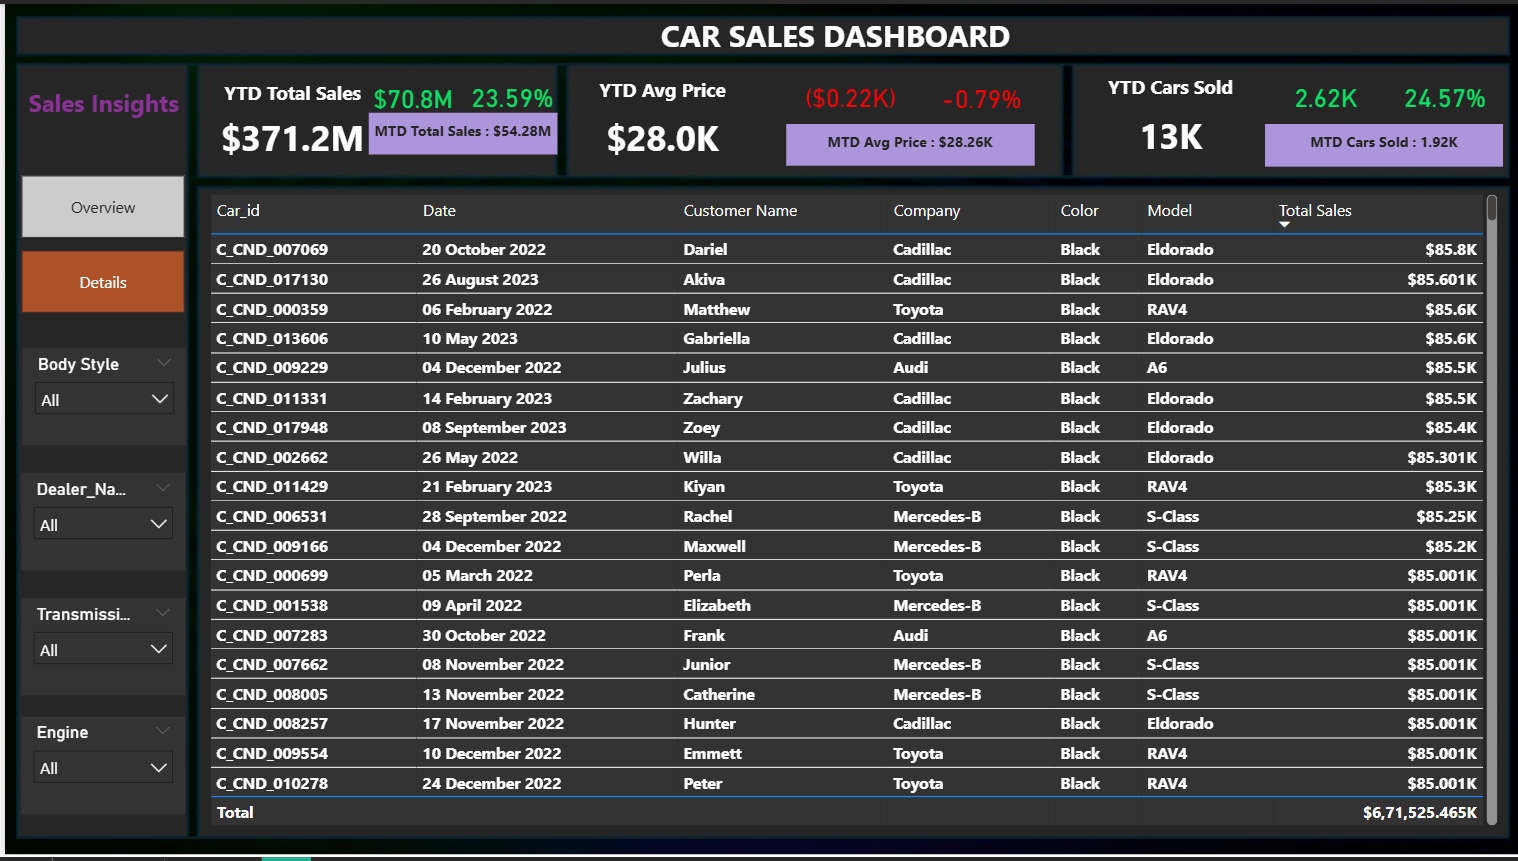

This screenshot's page, from the dashboard's own definition file:
{"tool":"powerbi","page":{"name":"Details","canvas":[1280,720],"ordinal":1},"visuals":[{"type":"card","title":"YTD Total Sales","fields":{"Values":["car_data.YTD Total Sales"]},"box":[167.4,62.8,150,79.1],"z":0},{"type":"card","fields":{"Values":["car_data.Sales Difference"]},"box":[301.2,59.3,86,41.9],"z":1000},{"type":"card","fields":{"Values":["car_data.YOY Sales Growth"]},"box":[387.2,58.1,82.6,41.9],"z":2000},{"type":"card","fields":{"Values":["car_data.MTD KPI"]},"box":[307,91.9,159.3,34.9],"z":3000},{"type":"card","title":"YTD Avg Price","fields":{"Values":["car_data.YTD Avg Price"]},"box":[469.8,61.6,170.9,82.6],"z":4000},{"type":"card","fields":{"Values":["car_data.Avg Price Diff"]},"box":[648.8,58.1,130.2,41.9],"z":5000},{"type":"card","fields":{"Values":["car_data.YOY Avg Price Growth"]},"box":[764,59.3,120.9,41.9],"z":6000},{"type":"card","fields":{"Values":["car_data.MTD Avg Price KPI"]},"box":[659.3,101.2,209.3,34.9],"z":7000},{"type":"card","title":"YTD Cars Sold","fields":{"Values":["car_data.YTD Cars Sold"]},"box":[903.5,58.1,159.3,86],"z":8000},{"type":"card","fields":{"Values":["car_data.Cars Sold Diff"]},"box":[1062.8,58.1,103.5,43],"z":9000},{"type":"card","fields":{"Values":["car_data.YOY Cars Sold"]},"box":[1166.3,58.1,97.7,43],"z":10000},{"type":"card","fields":{"Values":["car_data.MTD Cars Sold KPI"]},"box":[1062.8,101.2,201.2,36],"z":11000},{"type":"slicer","fields":{"Values":["car_data.Body Style"]},"box":[15.1,289.5,138.4,82.6],"z":12000},{"type":"slicer","fields":{"Values":["car_data.Dealer_Name"]},"box":[14,395.3,138.4,82.6],"z":13000},{"type":"slicer","fields":{"Values":["car_data.Transmission"]},"box":[14,501.2,138.4,82.6],"z":14000},{"type":"slicer","fields":{"Values":["car_data.Engine"]},"box":[14,601.2,138.4,82.6],"z":15000},{"type":"textbox","title":" CAR SALES DASHBOARD","box":[548.8,9.3,708.1,34.9],"z":16000},{"type":"tableEx","fields":{"Values":["car_data.Car_id","car_data.Date","car_data.Customer Name","car_data.Company","car_data.Color","car_data.Model","Sum(car_data.Price ($))"]},"box":[167.4,155.8,1096.5,541.9],"z":17000},{"type":"pageNavigator","box":[14,144.2,138.4,116.3],"z":18000},{"type":"textbox","title":"Sales Insights","box":[15.1,69.8,137.2,57],"z":19000}]}

Visuals, with their boxes in screenshot pixels (x1, y1, x2, y2), scaled from the page's 1280x720 canvas onto the 1518x861 screenshot:
"YTD Total Sales" card: [199, 75, 376, 170]
card - car_data.Sales Difference: [357, 71, 459, 121]
card - car_data.YOY Sales Growth: [459, 69, 557, 120]
card - car_data.MTD KPI: [364, 110, 553, 152]
"YTD Avg Price" card: [557, 74, 760, 172]
card - car_data.Avg Price Diff: [769, 69, 924, 120]
card - car_data.YOY Avg Price Growth: [906, 71, 1049, 121]
card - car_data.MTD Avg Price KPI: [782, 121, 1030, 163]
"YTD Cars Sold" card: [1071, 69, 1260, 172]
card - car_data.Cars Sold Diff: [1260, 69, 1383, 121]
card - car_data.YOY Cars Sold: [1383, 69, 1499, 121]
card - car_data.MTD Cars Sold KPI: [1260, 121, 1499, 164]
slicer - car_data.Body Style: [18, 346, 182, 445]
slicer - car_data.Dealer_Name: [17, 473, 181, 571]
slicer - car_data.Transmission: [17, 599, 181, 698]
slicer - car_data.Engine: [17, 719, 181, 818]
" CAR SALES DASHBOARD" textbox: [651, 11, 1491, 53]
tableEx - car_data.Car_id x car_data.Date: [199, 186, 1499, 834]
pageNavigator: [17, 172, 181, 312]
"Sales Insights" textbox: [18, 83, 181, 152]
